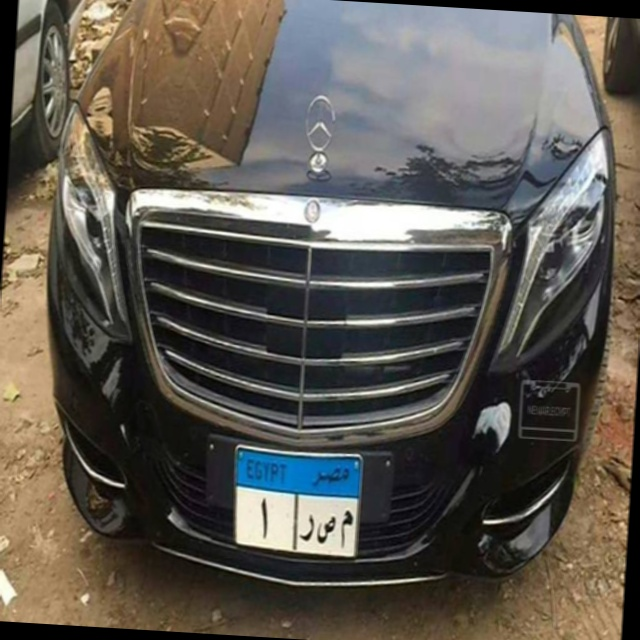License Plate: (227, 439, 367, 564)
